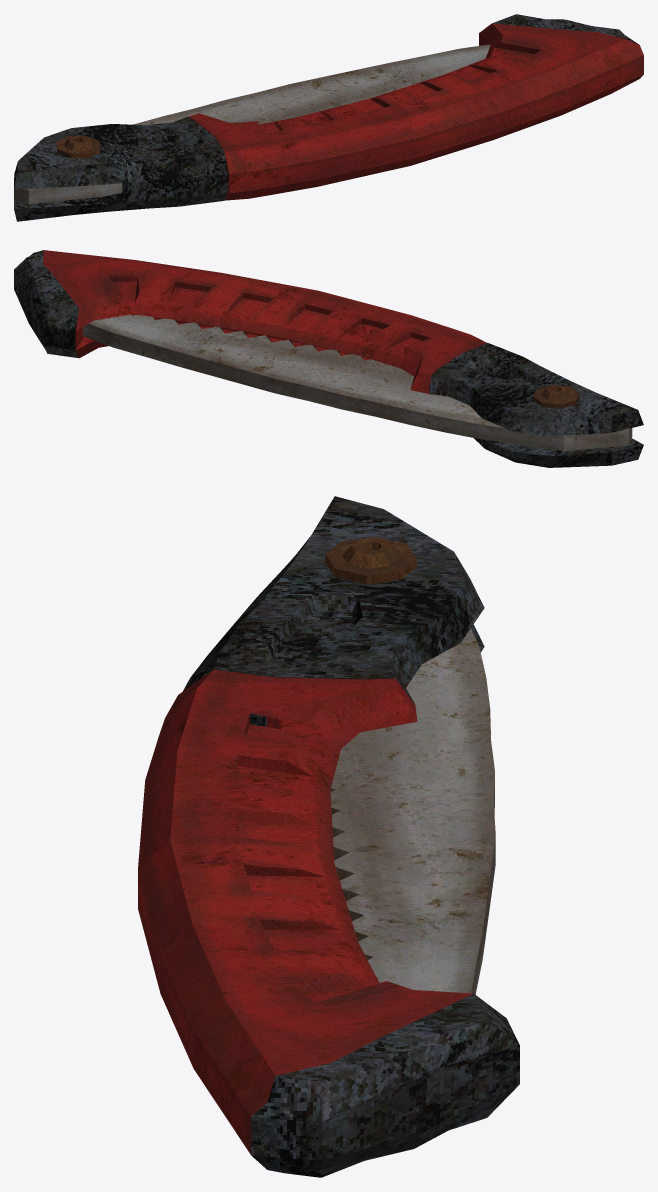
The model's file is mp_handsaw interactable1.glb.
The picture shows the model from 3 angles, top to bottom: view 1: azimuth 30°, elevation 25°; view 2: azimuth 150°, elevation 25°; view 3: azimuth 270°, elevation 25°; orthographic projection. The views are drawn at different scales.
Parts seen in each view (by area): view 1: handsaw interactable base, handsaw interactable blade pivot; view 2: handsaw interactable base, handsaw interactable blade pivot; view 3: handsaw interactable base, handsaw interactable blade pivot.
Part boxes in pixels (left/top/right/bottom): handsaw interactable base: left=14, top=14, right=643, bottom=221; handsaw interactable blade pivot: left=14, top=44, right=490, bottom=204; handsaw interactable base: left=14, top=250, right=643, bottom=467; handsaw interactable blade pivot: left=83, top=314, right=632, bottom=451; handsaw interactable base: left=138, top=496, right=519, bottom=1177; handsaw interactable blade pivot: left=330, top=628, right=495, bottom=994.
Bounding box in the file's own units: 3.55 × 0.3718 × 0.956.
4 materials, 4 textured.
